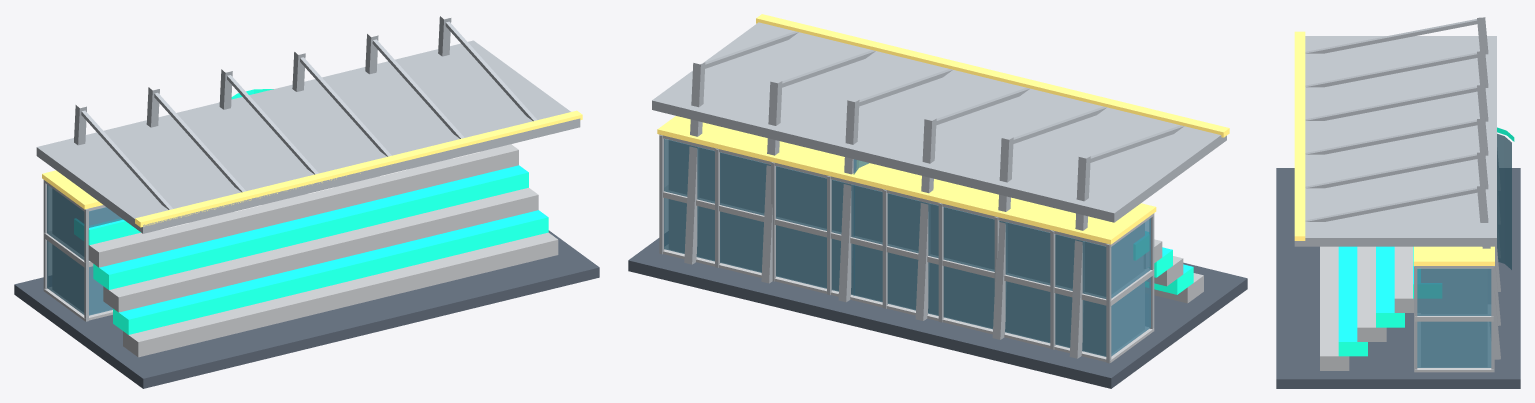
Rendered from stadium_stand_expansion.glb.
The picture shows the model from 3 angles, left to right: view 1: azimuth 30°, elevation 25°; view 2: azimuth 150°, elevation 25°; view 3: azimuth 270°, elevation 25°; orthographic projection. The views are drawn at different scales.
Visible parts, largest first — view 1: stadium_stand_expansion; view 2: stadium_stand_expansion; view 3: stadium_stand_expansion.
Part boxes in pixels (<box>): stadium_stand_expansion: <box>14,16,599,388</box>; stadium_stand_expansion: <box>628,14,1247,388</box>; stadium_stand_expansion: <box>1276,17,1520,388</box>.
Bounding box in the file's own units: 3.76 × 1.52 × 1.84.
